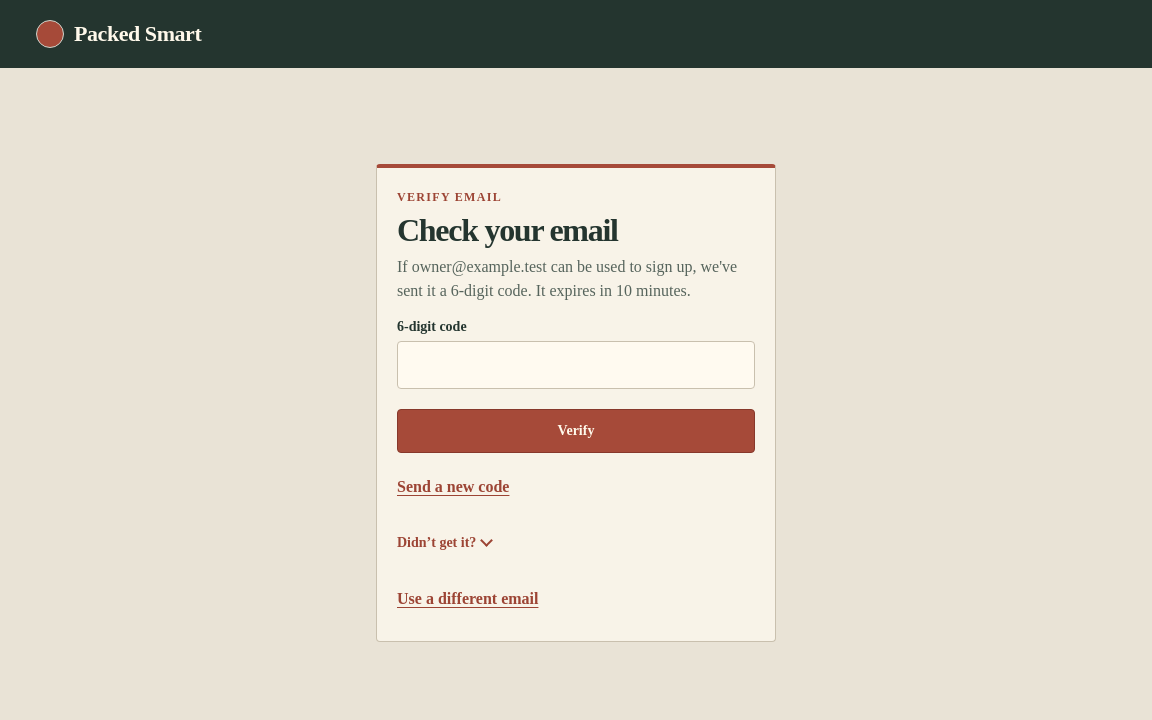
Test: VerifyForm › puts a wrong-code problem under the input and keeps focus there with the text selected
Step 1. Type "111111" into the field labelled "6-digit code" → coordinates (576, 365), box x1=397 y1=341 x2=755 y2=389
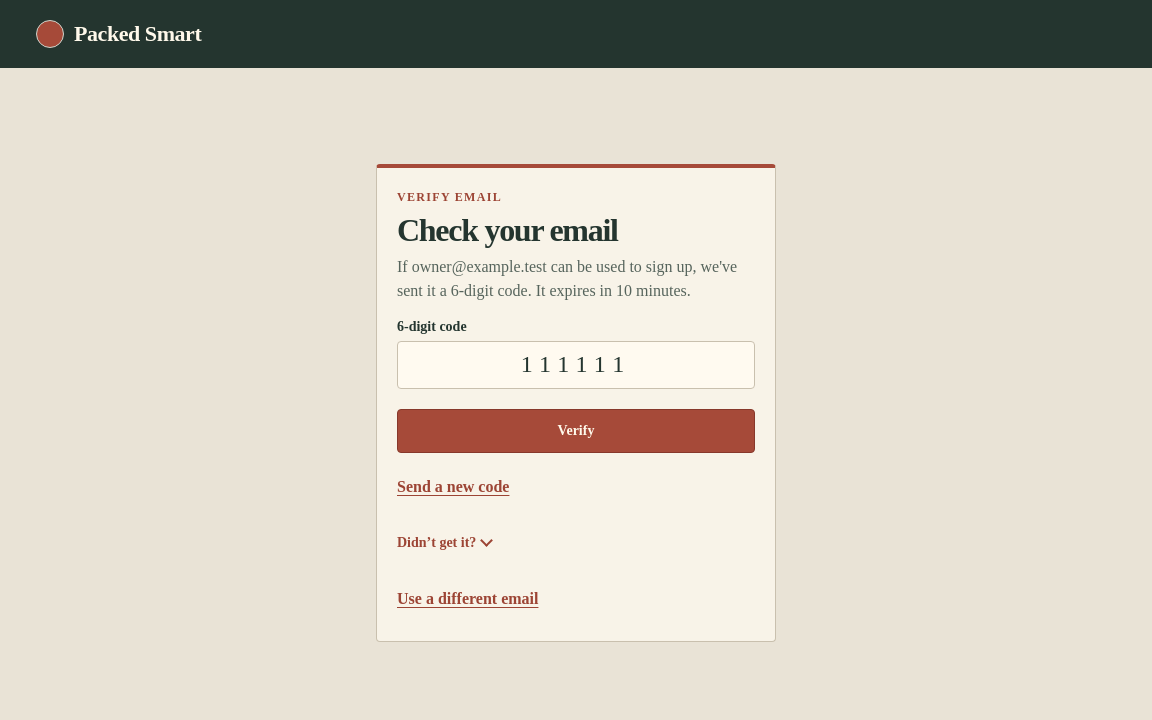
Step 2. Click the button "Verify" → coordinates (576, 431), box x1=397 y1=409 x2=755 y2=453
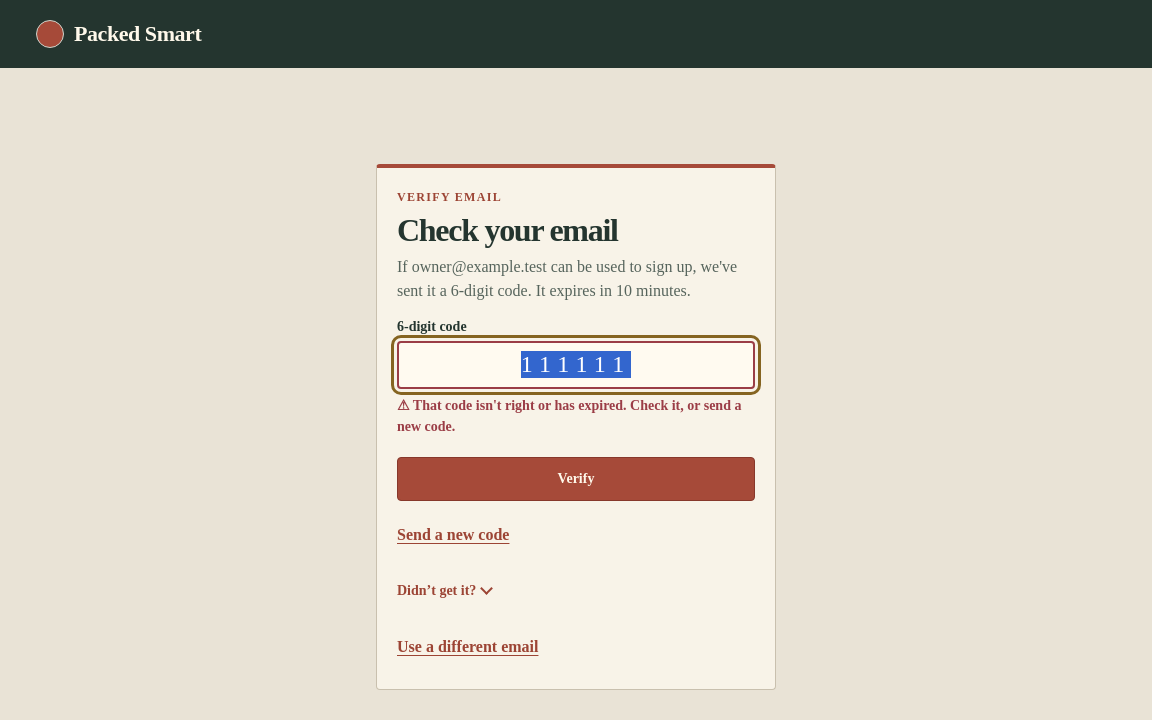
Now the element with id "code-error" shows "isn't right or has expired", box x1=397 y1=398 x2=742 y2=434
